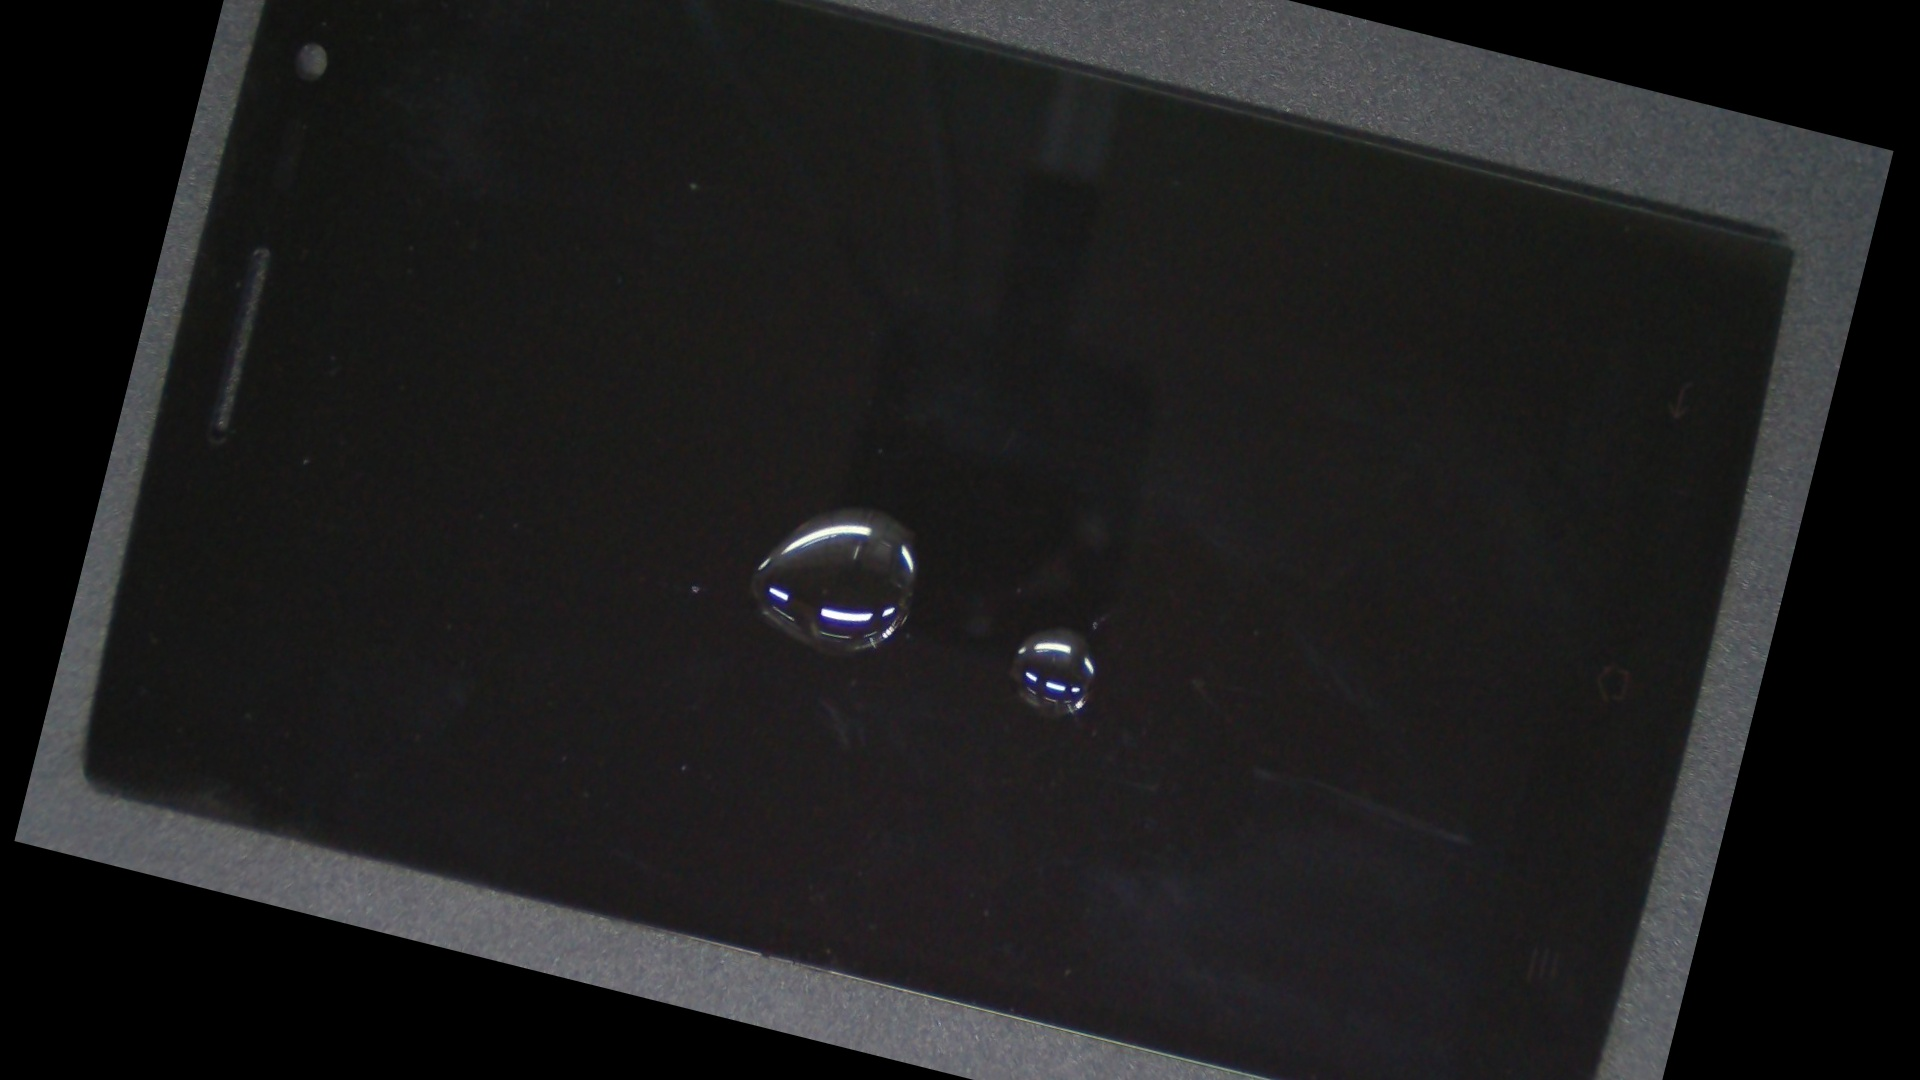oil: (513, 189, 1609, 1067), (438, 131, 1313, 891)
